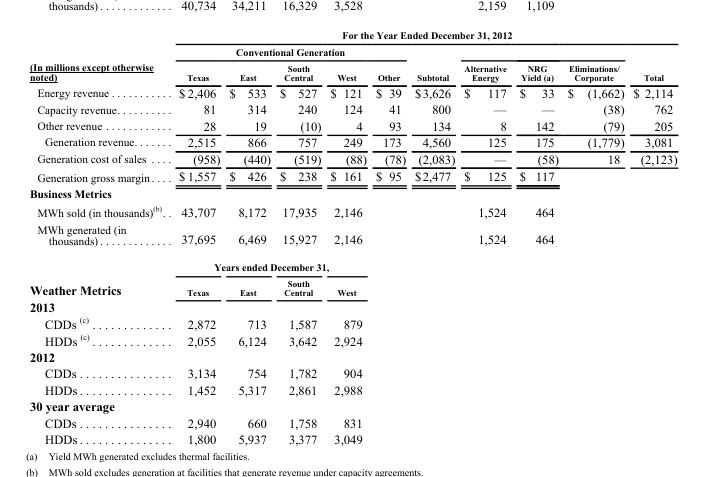table: (28, 29, 676, 445)
table column: (28, 29, 171, 445), (562, 29, 628, 445), (458, 29, 512, 445), (171, 29, 223, 445), (223, 29, 274, 445), (274, 29, 324, 445), (512, 29, 562, 445), (409, 29, 458, 445), (628, 29, 676, 445), (324, 29, 370, 445), (370, 29, 409, 445)
table column header: (28, 29, 676, 83)
table projected row header: (28, 397, 676, 414), (28, 185, 676, 201), (28, 298, 676, 314), (28, 348, 676, 364)
table row: (28, 220, 676, 253), (28, 60, 676, 83), (28, 275, 676, 298), (28, 253, 676, 275), (28, 201, 676, 220), (28, 42, 676, 60), (28, 167, 676, 185), (28, 83, 676, 100), (28, 100, 676, 117), (28, 133, 676, 150), (28, 150, 676, 167), (28, 314, 676, 331), (28, 331, 676, 348), (28, 364, 676, 381), (28, 397, 676, 414), (28, 117, 676, 133), (28, 185, 676, 201), (28, 298, 676, 314), (28, 348, 676, 364), (28, 381, 676, 397), (28, 414, 676, 430), (28, 430, 676, 445), (28, 29, 676, 42)
table spanning cell: (28, 29, 171, 83), (171, 29, 676, 42), (171, 253, 370, 275), (171, 42, 409, 60), (562, 42, 628, 83), (458, 42, 512, 83), (512, 42, 562, 83), (409, 42, 458, 83), (628, 42, 676, 83)
